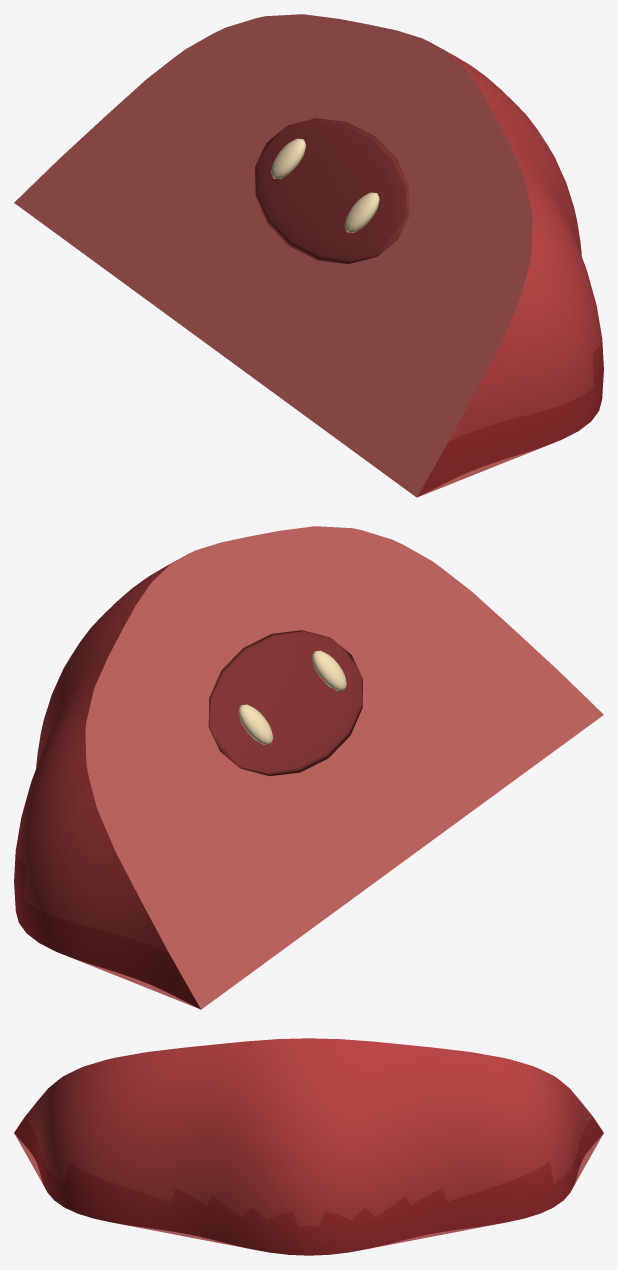
The model's file is cocktail_chunk.glb.
3 views of the same model, one above another, from view 1: azimuth 30°, elevation 25°; view 2: azimuth 150°, elevation 25°; view 3: azimuth 270°, elevation 25° (orthographic). The views are drawn at different scales.
Visible parts, largest first — view 1: Cocktail Cocktail rose-red satin skin / Cocktail subtle sunw, Cocktail Cocktail three deep gel locules, Cocktail Cocktail small ivory seeds; view 2: Cocktail Cocktail rose-red satin skin / Cocktail subtle sunw, Cocktail Cocktail three deep gel locules, Cocktail Cocktail small ivory seeds; view 3: Cocktail Cocktail rose-red satin skin / Cocktail subtle sunw.
Part boxes in pixels (x1=…): Cocktail Cocktail rose-red satin skin / Cocktail subtle sunw: x1=14, y1=14, x2=603, y2=497; Cocktail Cocktail three deep gel locules: x1=255, y1=118, x2=409, y2=264; Cocktail Cocktail small ivory seeds: x1=271, y1=138, x2=379, y2=232; Cocktail Cocktail rose-red satin skin / Cocktail subtle sunw: x1=14, y1=526, x2=603, y2=1009; Cocktail Cocktail three deep gel locules: x1=208, y1=630, x2=362, y2=776; Cocktail Cocktail small ivory seeds: x1=238, y1=650, x2=346, y2=744; Cocktail Cocktail rose-red satin skin / Cocktail subtle sunw: x1=14, y1=1038, x2=603, y2=1255.
Bounding box in the file's own units: 0.5142 × 0.3448 × 1.04.
